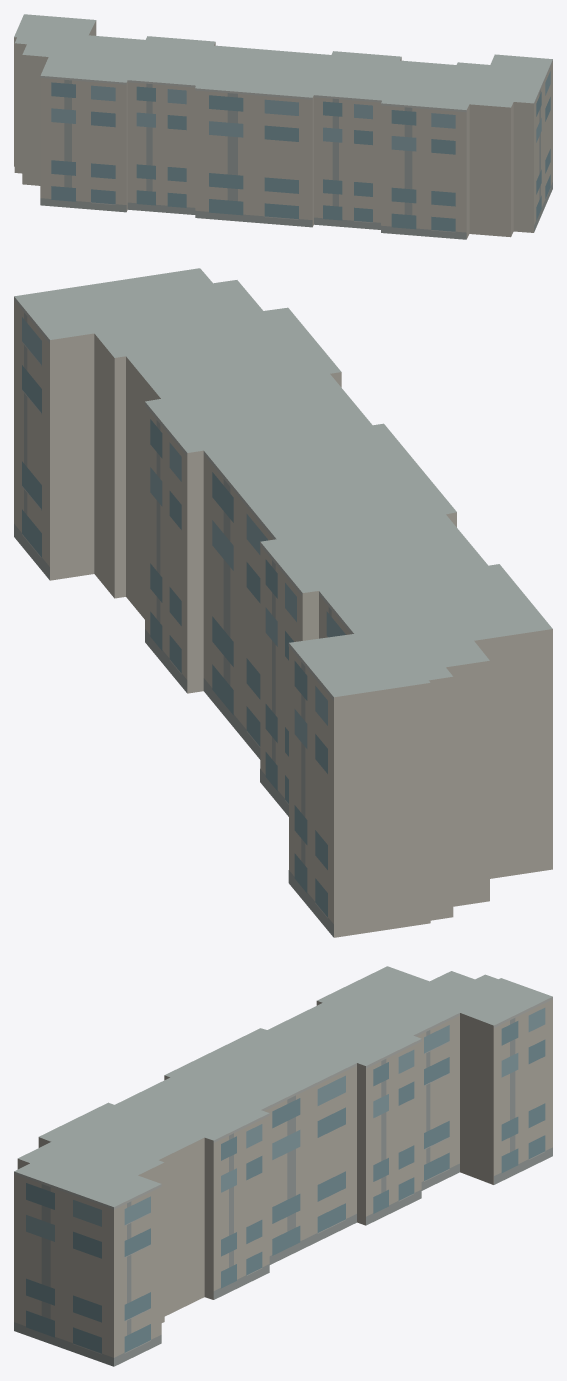
Rendered from survey-upis-32763339.glb.
3 renders of one model, top to bottom at view 1: azimuth 30°, elevation 25°; view 2: azimuth 150°, elevation 25°; view 3: azimuth 270°, elevation 25°, orthographic. The views are drawn at different scales.
Visible parts, largest first — view 1: survey-upis-32763339.tmp; view 2: survey-upis-32763339.tmp; view 3: survey-upis-32763339.tmp.
Boxes of the visible parts, box(x1,y1,x2,y2) form: survey-upis-32763339.tmp: box(14, 14, 552, 239); survey-upis-32763339.tmp: box(14, 268, 552, 937); survey-upis-32763339.tmp: box(14, 966, 552, 1366).
Size of the model in its own units: 49.43 by 15.25 by 46.69.
